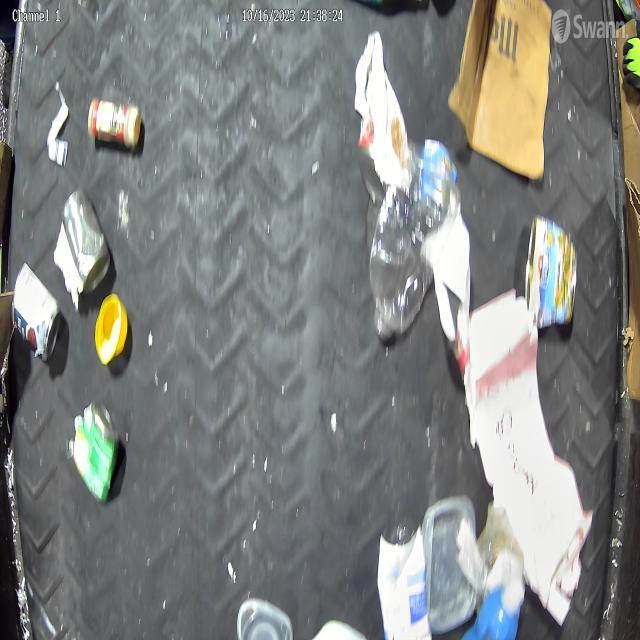can: (524, 214, 579, 328), (61, 186, 111, 295), (72, 398, 122, 504), (10, 262, 62, 362)
plastic_bottle: (369, 140, 459, 342)
